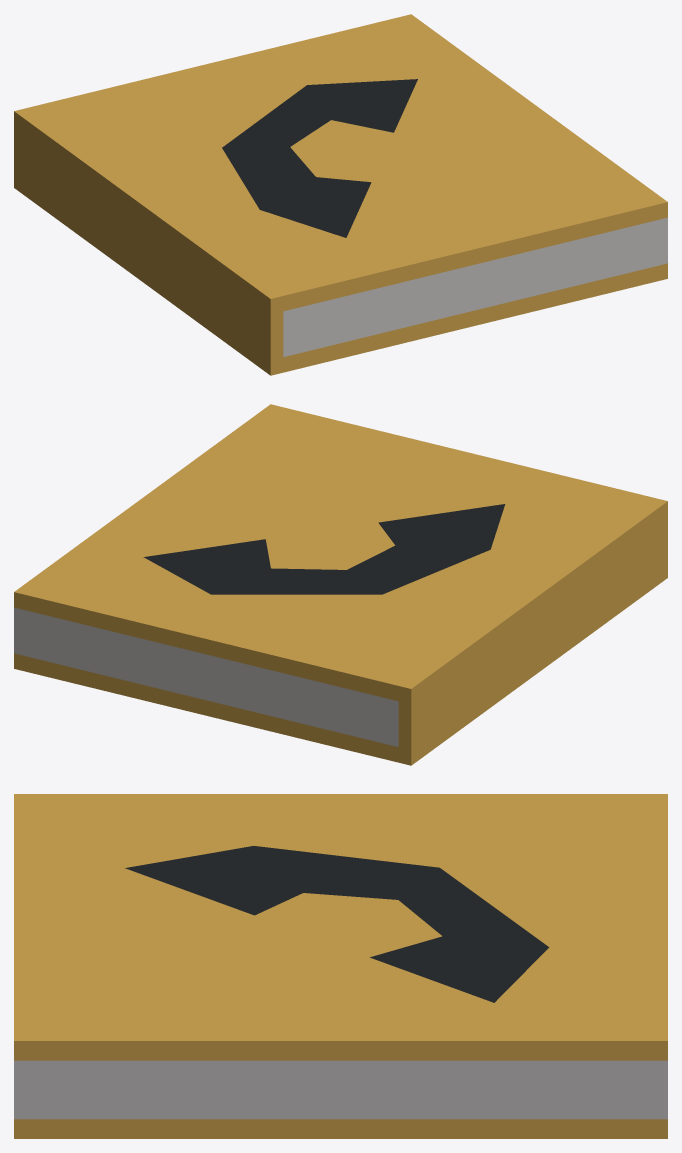
File: SM_Prop_Book_Phone_01.obj
3 views of the same model, one above another, from view 1: azimuth 30°, elevation 25°; view 2: azimuth 150°, elevation 25°; view 3: azimuth 270°, elevation 25° (orthographic). The views are drawn at different scales.
Visible parts, largest first — view 1: SM_Prop_Book_Phone_01_M_PolygonOffice_01_A; view 2: SM_Prop_Book_Phone_01_M_PolygonOffice_01_A; view 3: SM_Prop_Book_Phone_01_M_PolygonOffice_01_A.
Boxes of the visible parts, x1,y1,x2,y2 form: SM_Prop_Book_Phone_01_M_PolygonOffice_01_A: [14, 14, 667, 375]; SM_Prop_Book_Phone_01_M_PolygonOffice_01_A: [14, 404, 667, 765]; SM_Prop_Book_Phone_01_M_PolygonOffice_01_A: [14, 794, 667, 1138].
Size of the model in its own units: 0.2393 by 0.0442 by 0.2677.
1 material, 1 textured.
